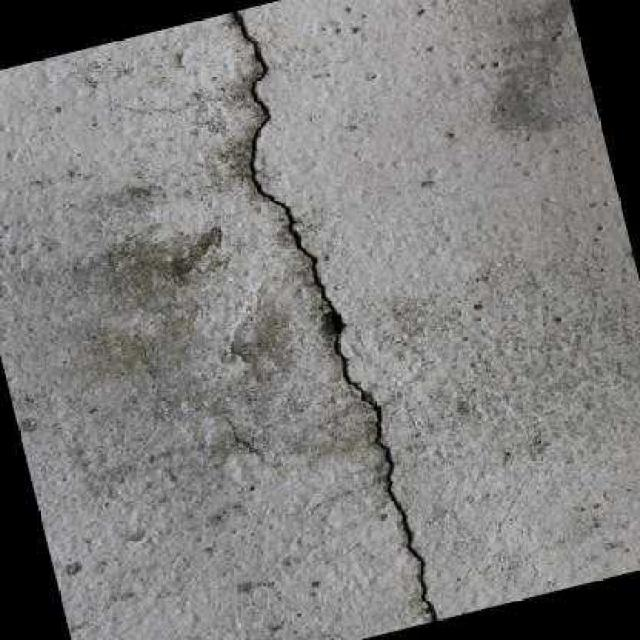D00: (231, 11, 438, 622)
